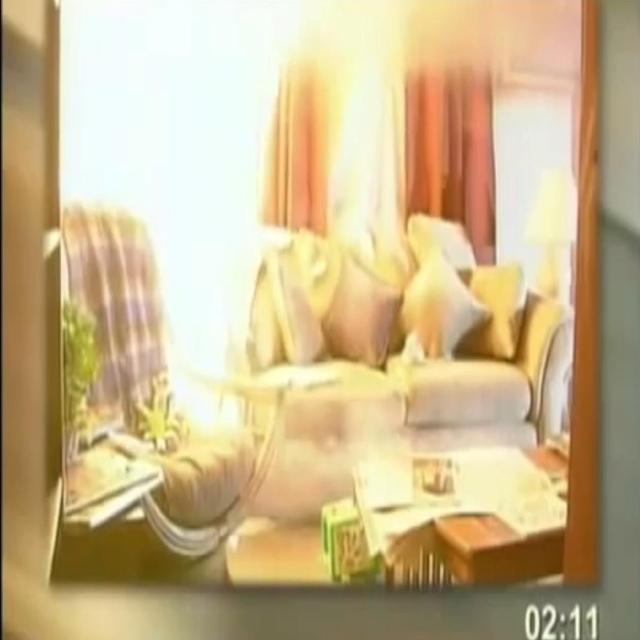smoke: (61, 0, 303, 419)
